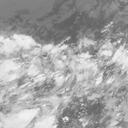cyclone: (41, 51, 99, 107)
